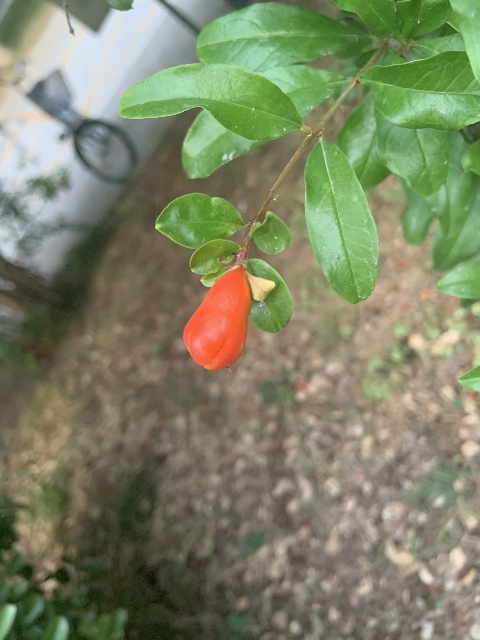bud: (183, 267, 250, 372)
